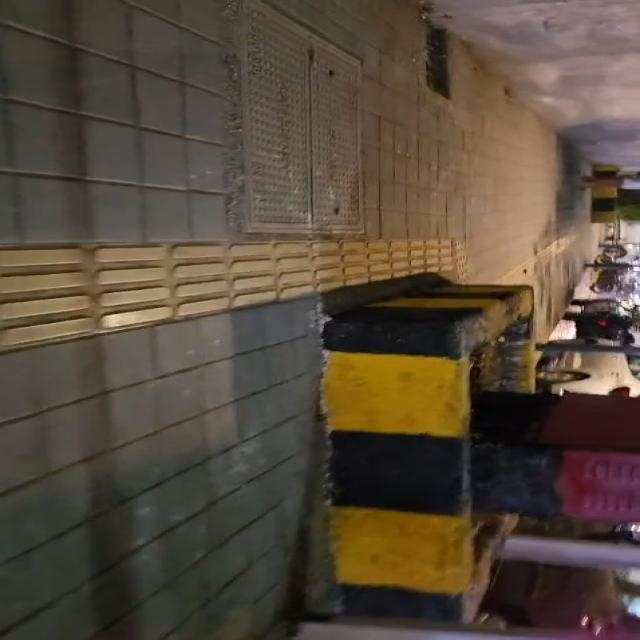obstacle: (319, 271, 547, 620), (296, 620, 591, 639), (500, 536, 639, 569), (536, 342, 639, 356), (584, 263, 634, 270)
